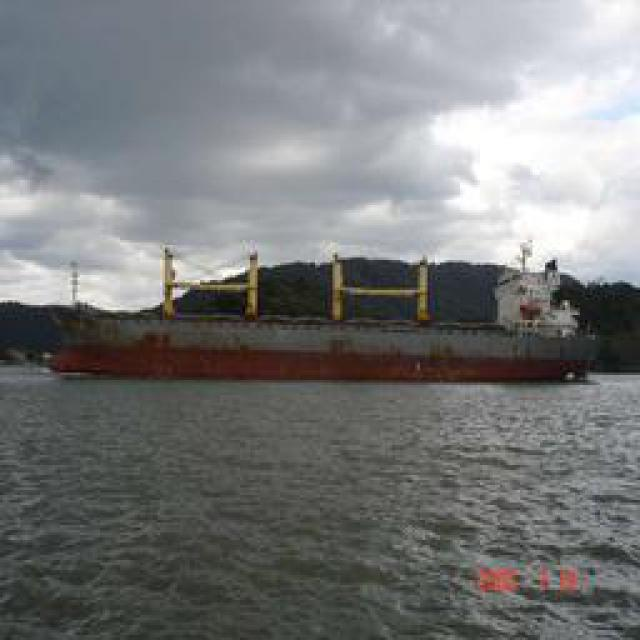Ship: (52, 292, 600, 382)
